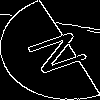N: (25, 25, 100, 77)
